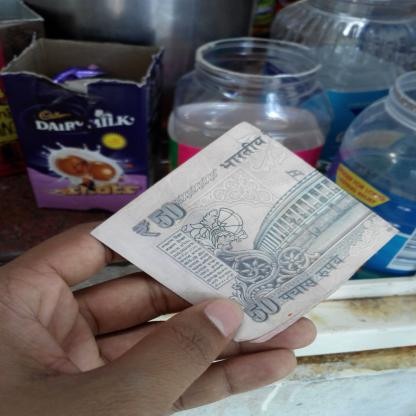Old50Back: (88, 121, 398, 345)
